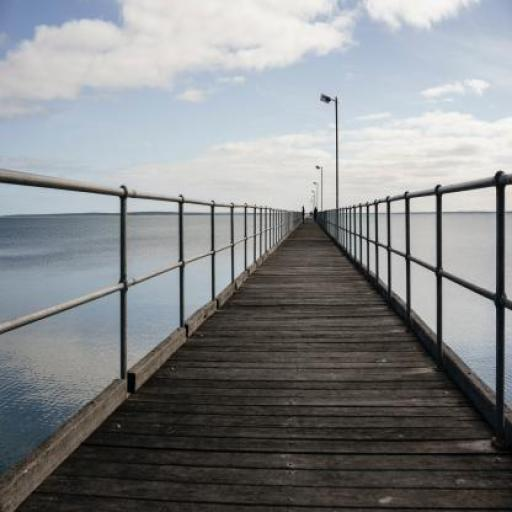street light: (319, 94, 339, 242), (315, 165, 322, 227), (313, 182, 318, 224), (313, 191, 316, 217)
